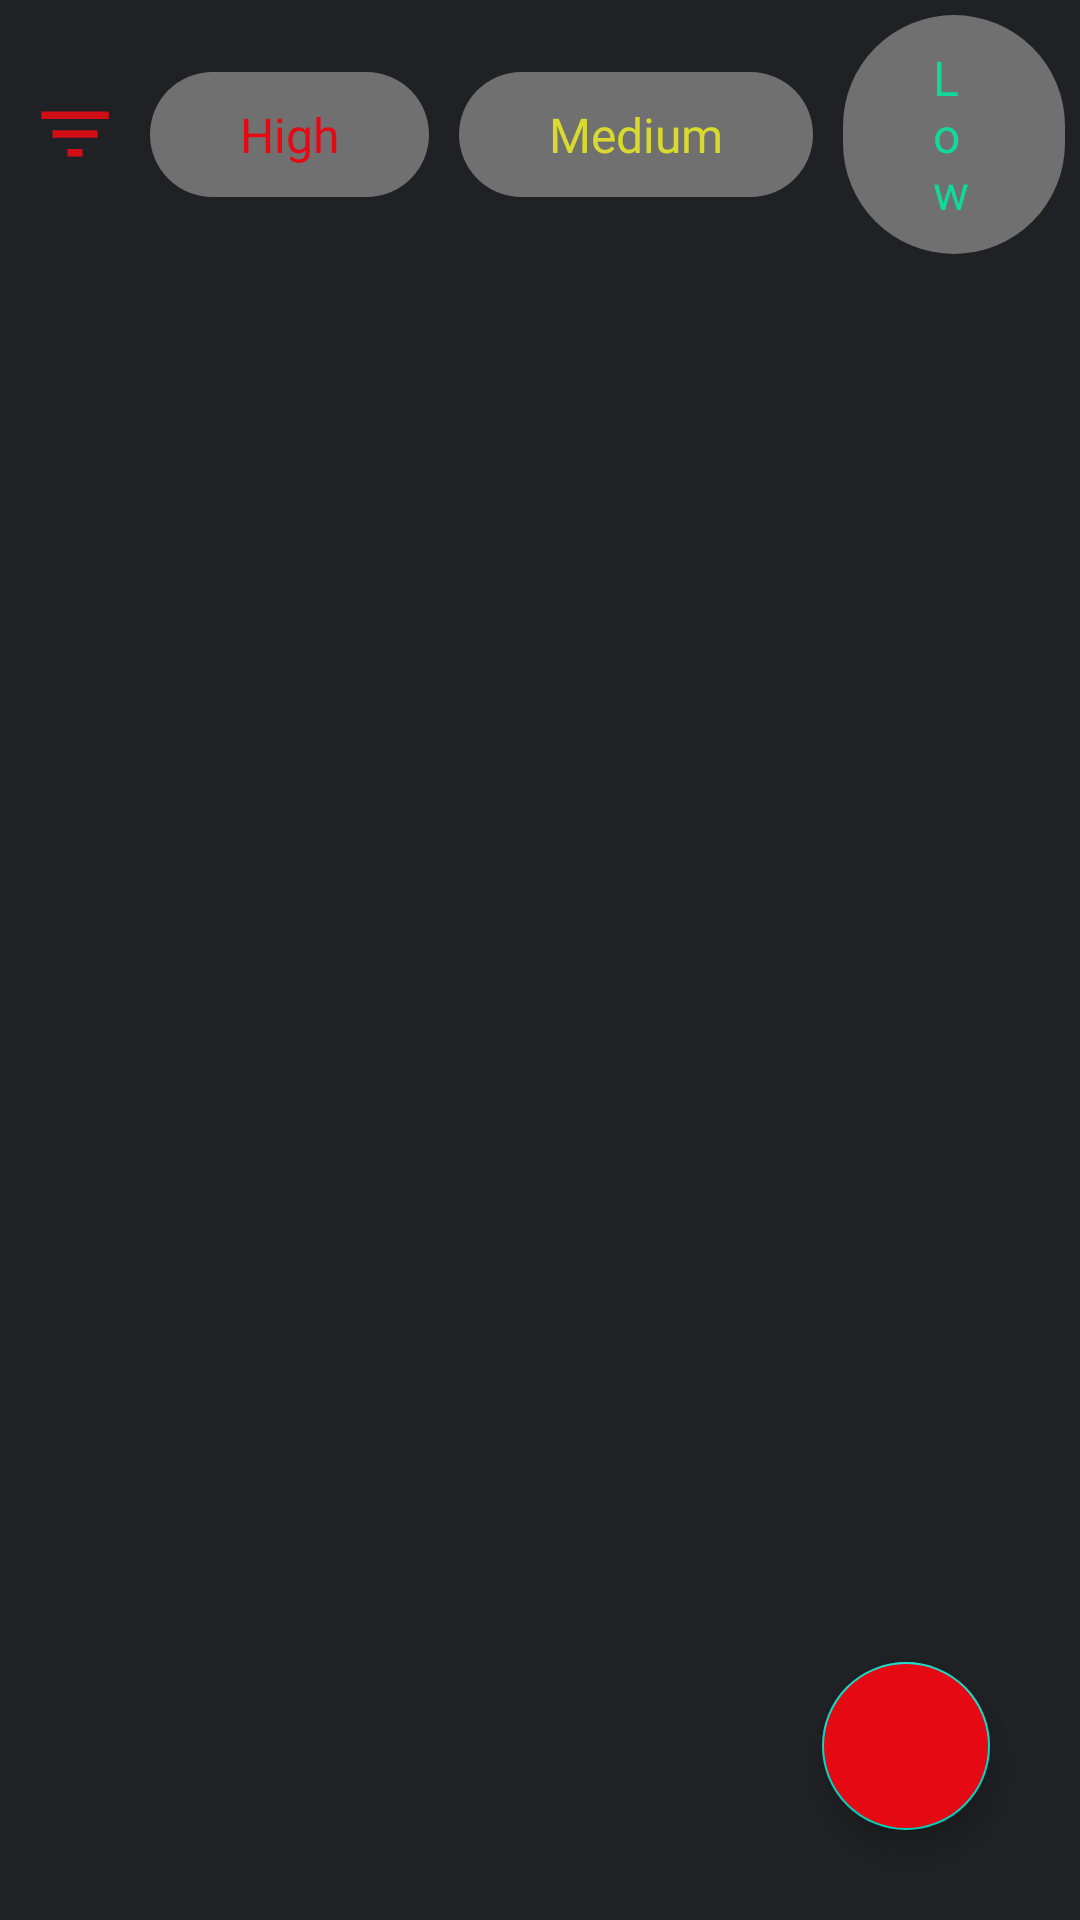

Where to tap for icons on this 1080px×1920px app screen, as [x,y]:
filter: [75,134]
